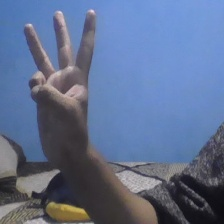W: (19, 6, 103, 165)
